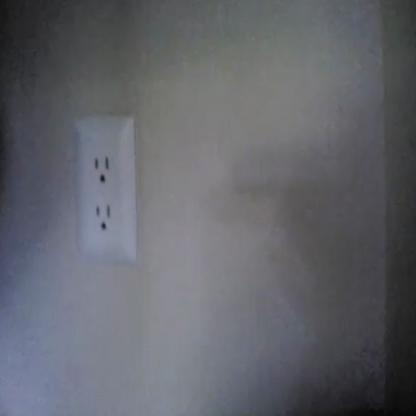OUTLET: (74, 115, 137, 266)
